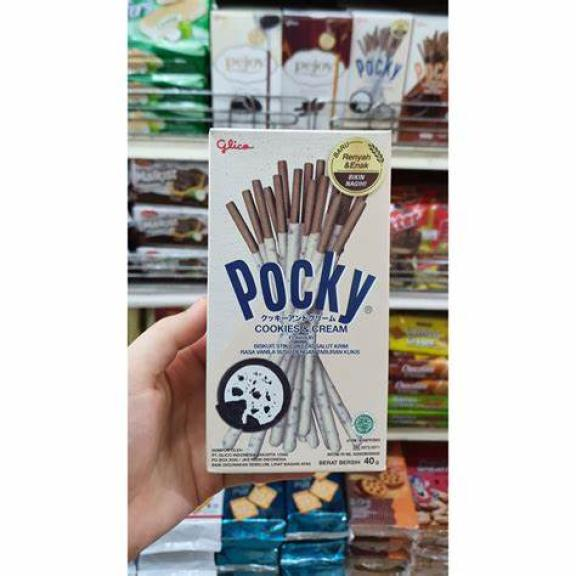Kertas: (209, 127, 388, 479)
